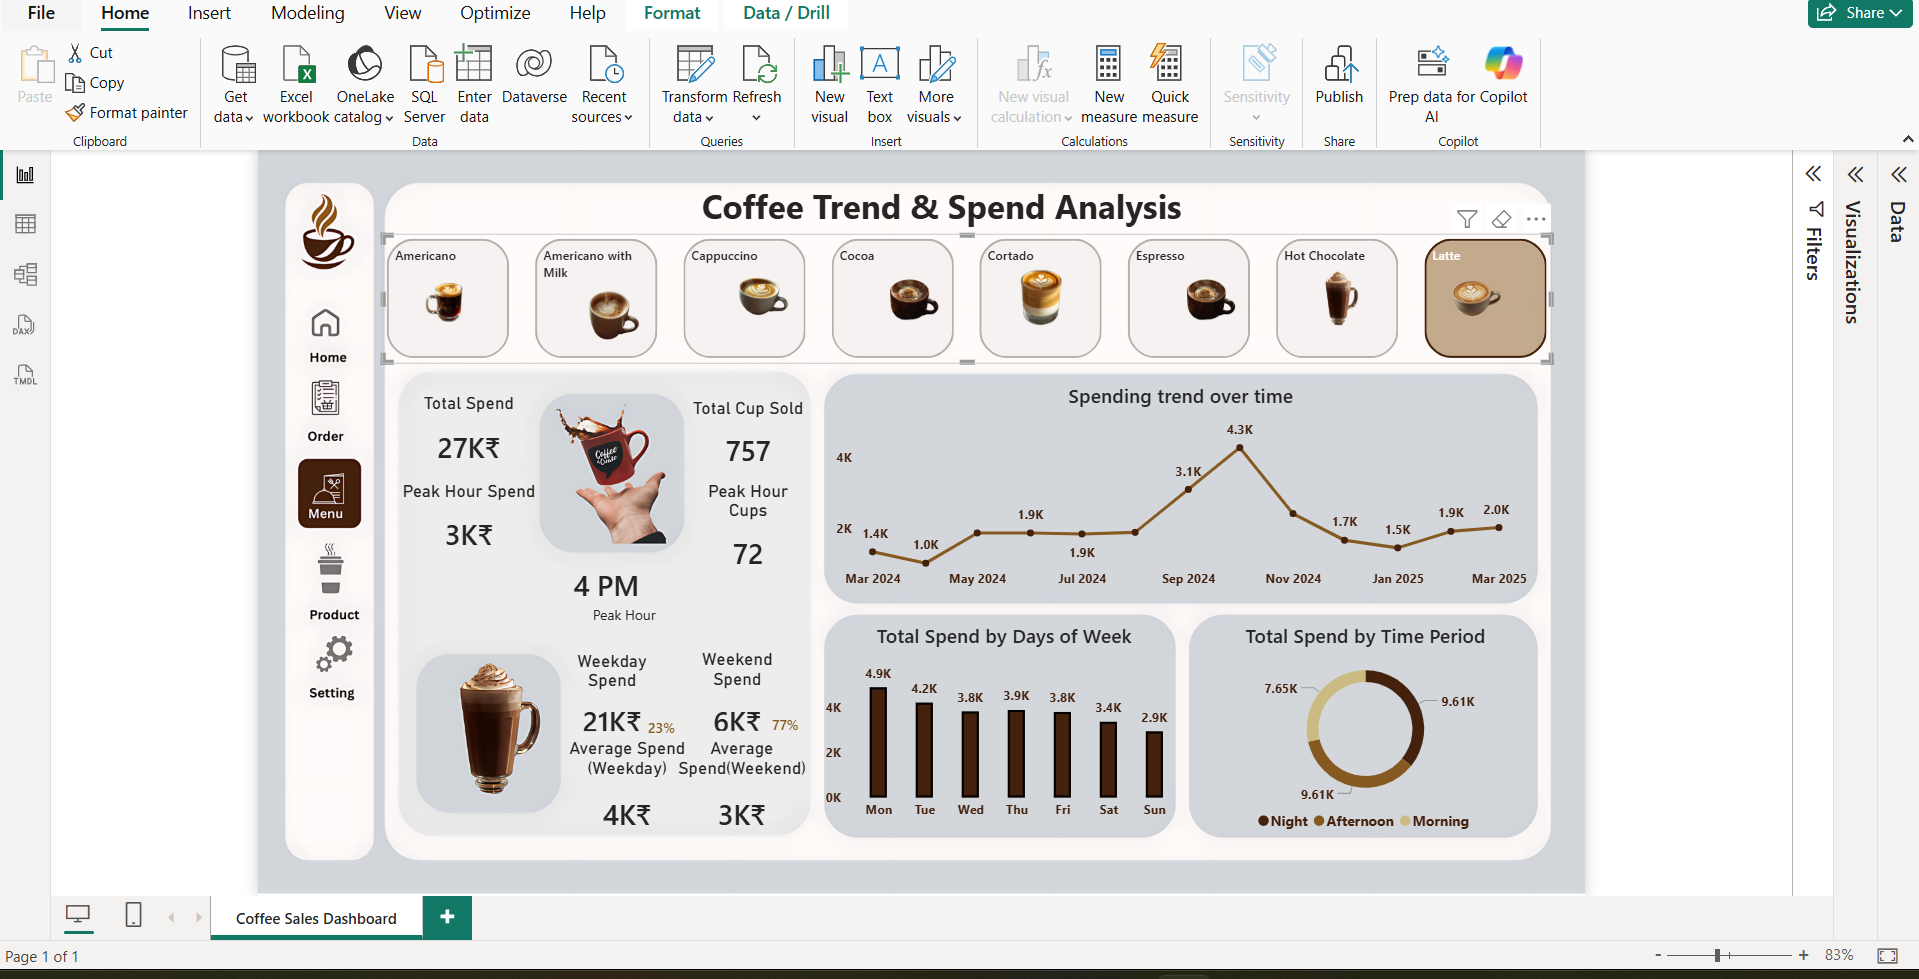

The page's visual inventory and layout, read from the dashboard file:
{"tool":"powerbi","page":{"name":"Coffee Sales Dashboard","canvas":[1280,720],"ordinal":0},"visuals":[{"type":"textbox","box":[422.9,27.4,485.7,53.1],"z":0},{"type":"cardVisual","title":"Total Spend","fields":{"Data":["coffee_data.Total_Spen"]},"box":[132.7,234.4,141.6,84],"z":1000},{"type":"cardVisual","title":"Total Cup Sold","fields":{"Data":["coffee_data.Total_Cup_Sold"]},"box":[413.2,238.9,121.2,79.6],"z":2000},{"type":"cardVisual","title":"Peak Hour Spend","fields":{"Data":["coffee_data.Peak_Hours"]},"box":[134.5,318.5,139.8,84],"z":3000},{"type":"cardVisual","title":"Peak Hour Cups","fields":{"Data":["coffee_data.Peak_Hour_Cup"]},"box":[413.2,318.5,121.2,99.1],"z":4000},{"type":"cardVisual","fields":{"Data":["coffee_data.Peak_Hour_Label"]},"box":[269,371.6,134.9,92],"z":5000,"group":"g1"},{"type":"cardVisual","title":"Weekday Spend","fields":{"Data":["coffee_data.WeekDay_Spend"]},"box":[280.5,482.2,123.9,95.5],"z":5000},{"type":"cardVisual","title":"Weekend Spend","fields":{"Data":["coffee_data.WeekEnd_Spend"]},"box":[399,481.3,126.5,96.4],"z":6000},{"type":"cardVisual","fields":{"Data":["coffee_data.% Weekday_Spend"]},"box":[467.1,529.1,84,48.7],"z":7000},{"type":"cardVisual","fields":{"Data":["coffee_data.% WeekEnd_Spend"]},"box":[345.9,529.9,86.7,53.1],"z":8000},{"type":"cardVisual","title":"Average Spend (Weekday)","fields":{"Data":["coffee_data.Weekday_Avg_Spend"]},"box":[289.3,567.1,133.6,107.1],"z":9000},{"type":"cardVisual","title":"Average Spend(Weekend)","fields":{"Data":["coffee_data.WeekEnd_Avg_Spend"]},"box":[399,567.1,135.4,107.1],"z":10000},{"type":"group","id":"g1","title":"Group 1","box":[269,371.6,162.9,91.7],"z":11000},{"type":"textbox","box":[276.7,434.1,154.2,29],"z":11001,"group":"g1"},{"type":"lineChart","title":"Spending trend over time","fields":{"Y":["Sum(coffee_data.money(Rs))"],"Category":["coffee_data.Date.Variation.Date Hierarchy.Year","coffee_data.Date.Variation.Date Hierarchy.Quarter","coffee_data.Date.Variation.Date Hierarchy.Month"]},"box":[551.2,224.7,678.6,207.9],"z":12000},{"type":"clusteredColumnChart","title":"Total Spend by Days of Week","fields":{"Y":["Sum(coffee_data.money(Rs))"],"Category":["coffee_data.Weekday"]},"box":[542.3,456.5,354.8,199.1],"z":13000},{"type":"donutChart","title":"Total Spend by Time Period","fields":{"Category":["coffee_data.Time_of_Day"],"Y":["Sum(coffee_data.money(Rs))"]},"box":[908.6,456.5,321.2,210.6],"z":14000},{"type":"advancedSlicerVisual","fields":{"Values":["coffee_data.coffee_name"]},"box":[119.4,80.5,1129.8,125.6],"z":15000}]}

Visuals, with their boxes on the page's 1280x720 design canvas (x1, y1, x2, y2). These are canvas units, not pixel positions in the 1919x979 screenshot, which may show the page scaled, cropped or inside an application window:
textbox: box=[423, 27, 909, 80]
"Total Spend" cardVisual: box=[133, 234, 274, 318]
"Total Cup Sold" cardVisual: box=[413, 239, 534, 318]
"Peak Hour Spend" cardVisual: box=[134, 318, 274, 402]
"Peak Hour Cups" cardVisual: box=[413, 318, 534, 418]
cardVisual - coffee_data.Peak_Hour_Label: box=[269, 372, 404, 464]
"Weekday Spend" cardVisual: box=[280, 482, 404, 578]
"Weekend Spend" cardVisual: box=[399, 481, 526, 578]
cardVisual - coffee_data.% Weekday_Spend: box=[467, 529, 551, 578]
cardVisual - coffee_data.% WeekEnd_Spend: box=[346, 530, 433, 583]
"Average Spend (Weekday)" cardVisual: box=[289, 567, 423, 674]
"Average Spend(Weekend)" cardVisual: box=[399, 567, 534, 674]
"Group 1" group: box=[269, 372, 432, 463]
textbox: box=[277, 434, 431, 463]
"Spending trend over time" lineChart: box=[551, 225, 1230, 433]
"Total Spend by Days of Week" clusteredColumnChart: box=[542, 456, 897, 656]
"Total Spend by Time Period" donutChart: box=[909, 456, 1230, 667]
advancedSlicerVisual - coffee_data.coffee_name: box=[119, 80, 1249, 206]
